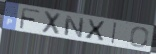F: (18, 7, 42, 31)
I: (110, 22, 118, 46)
N: (63, 14, 85, 39)
O: (128, 26, 151, 49)
X: (40, 10, 63, 37), (84, 18, 107, 42)
